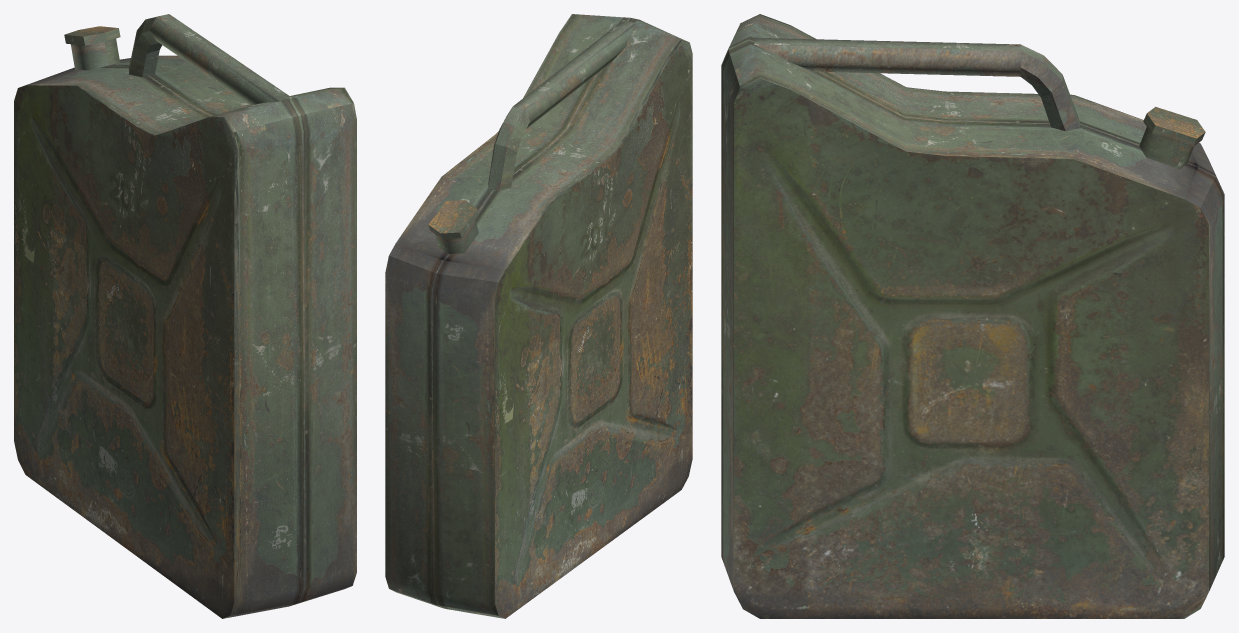
Rendered from Jerry can.FBX.
3 renders of one model, left to right at view 1: azimuth 30°, elevation 25°; view 2: azimuth 150°, elevation 25°; view 3: azimuth 270°, elevation 25°, orthographic. The views are drawn at different scales.
Visible parts, largest first — view 1: Jerry Can; view 2: Jerry Can; view 3: Jerry Can.
Part boxes in pixels (left/top/right/bottom): Jerry Can: left=14, top=14, right=356, bottom=618; Jerry Can: left=385, top=14, right=692, bottom=618; Jerry Can: left=721, top=14, right=1224, bottom=618.
Bounding box in the file's own units: 0.1116 × 0.4425 × 0.3684.
